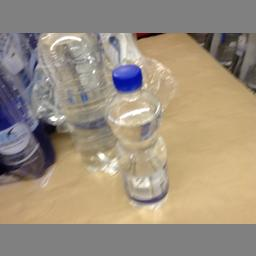water: (34, 32, 118, 173), (103, 63, 169, 210)
